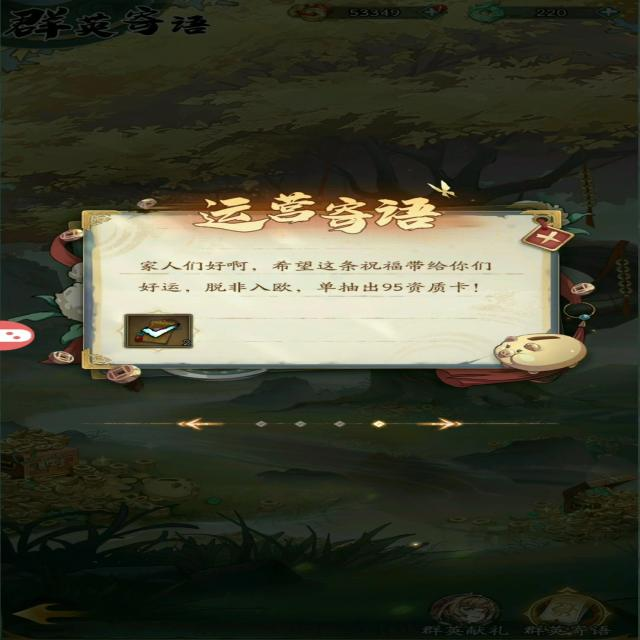operation-close: (502, 220, 577, 255)
operation-confirm-off: (105, 309, 207, 356)
operation-enter: (409, 411, 474, 437), (170, 408, 209, 435)
